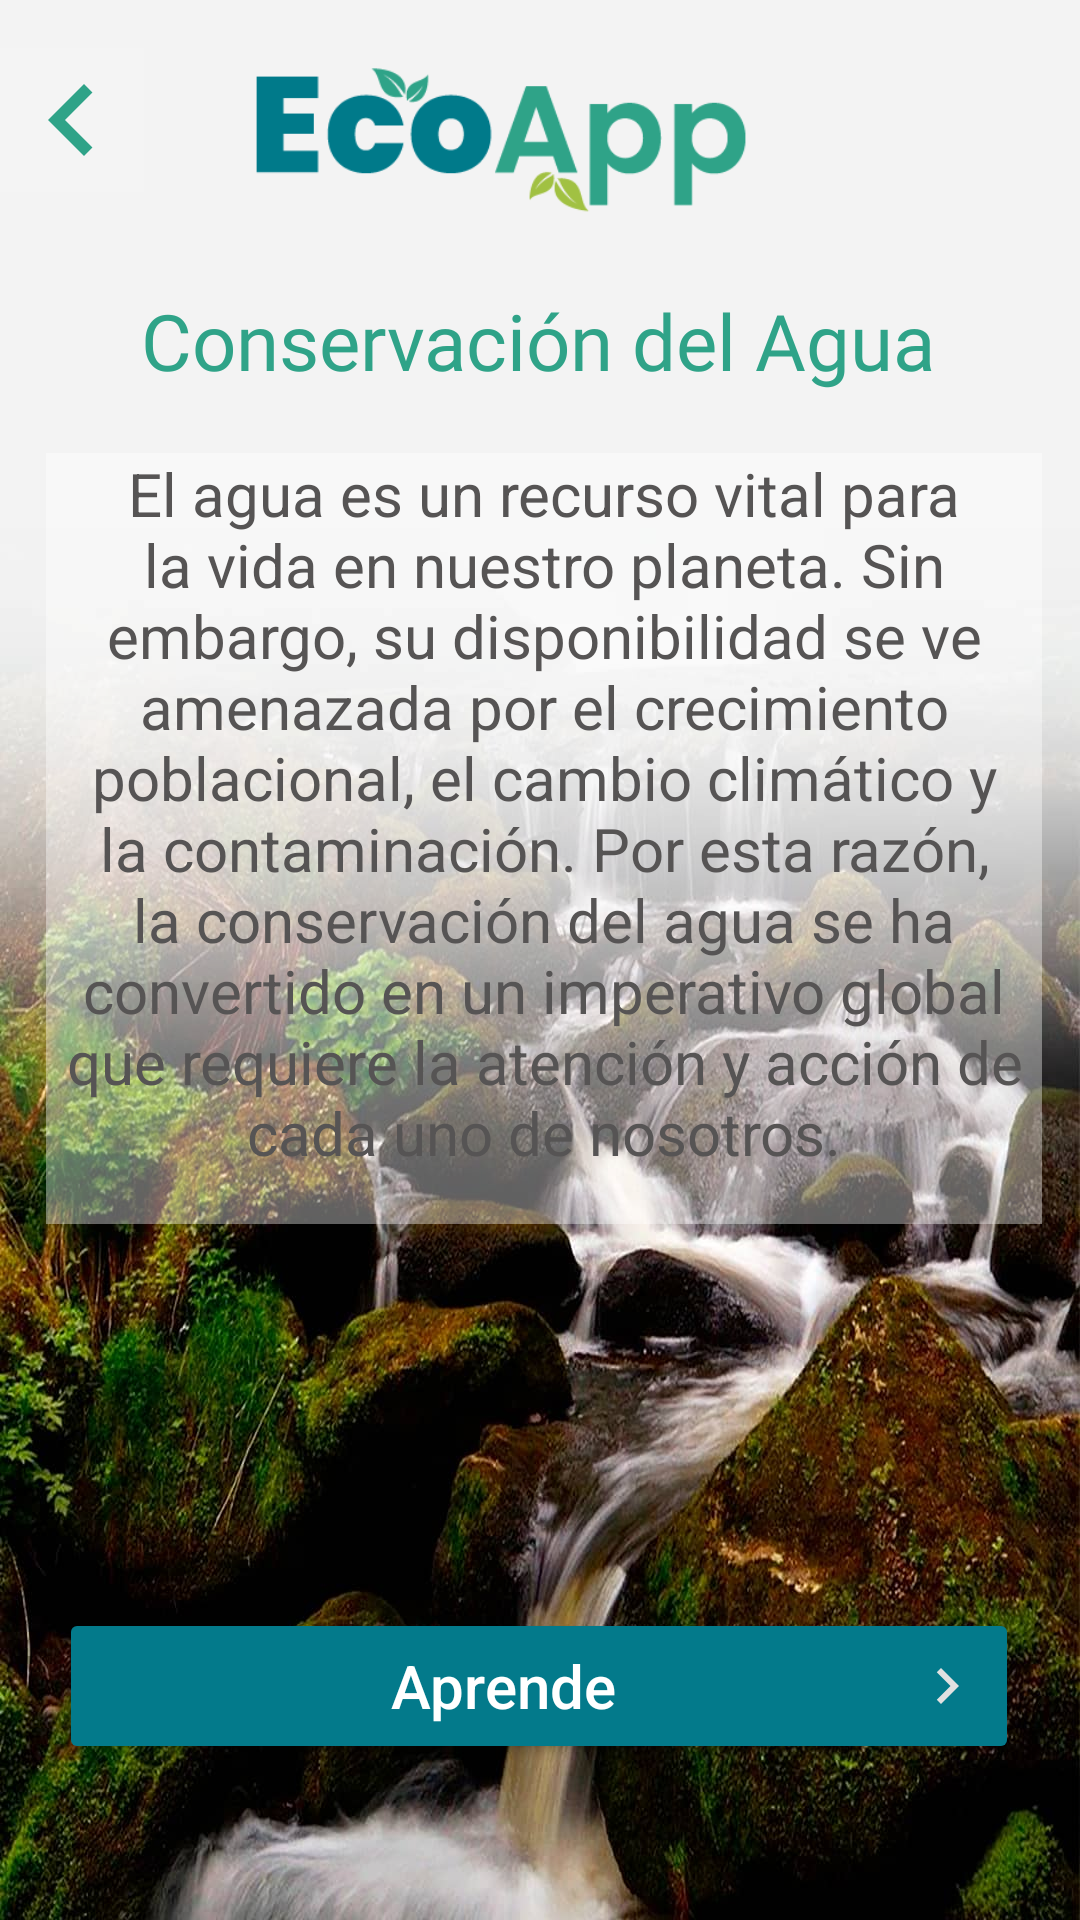

Icon bounding boxes for this 1080px×1920px phone screenshot, format bbox=(x1, y1, x2, y2):
volver atras: bbox=(48, 84, 93, 156)
